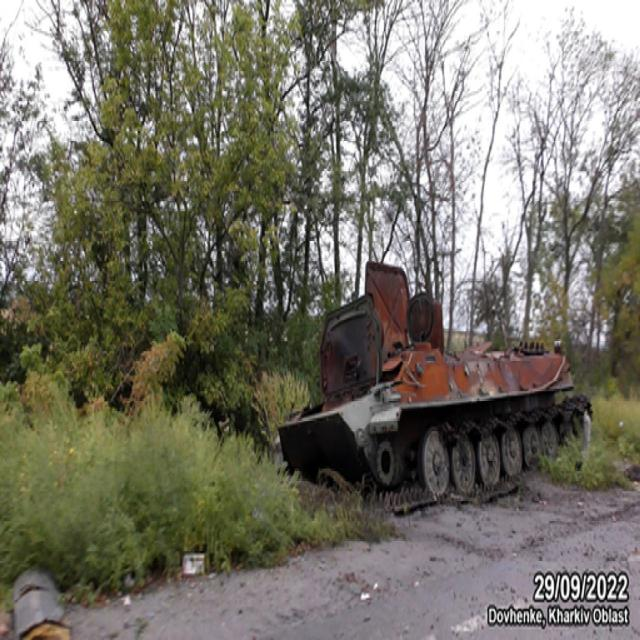APC-IFV: (275, 254, 593, 516)
